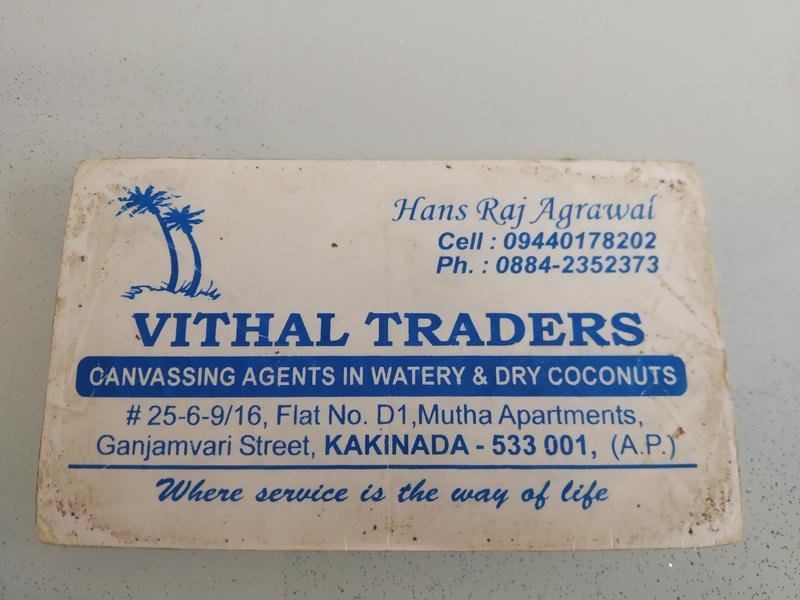card: (31, 152, 747, 548)
